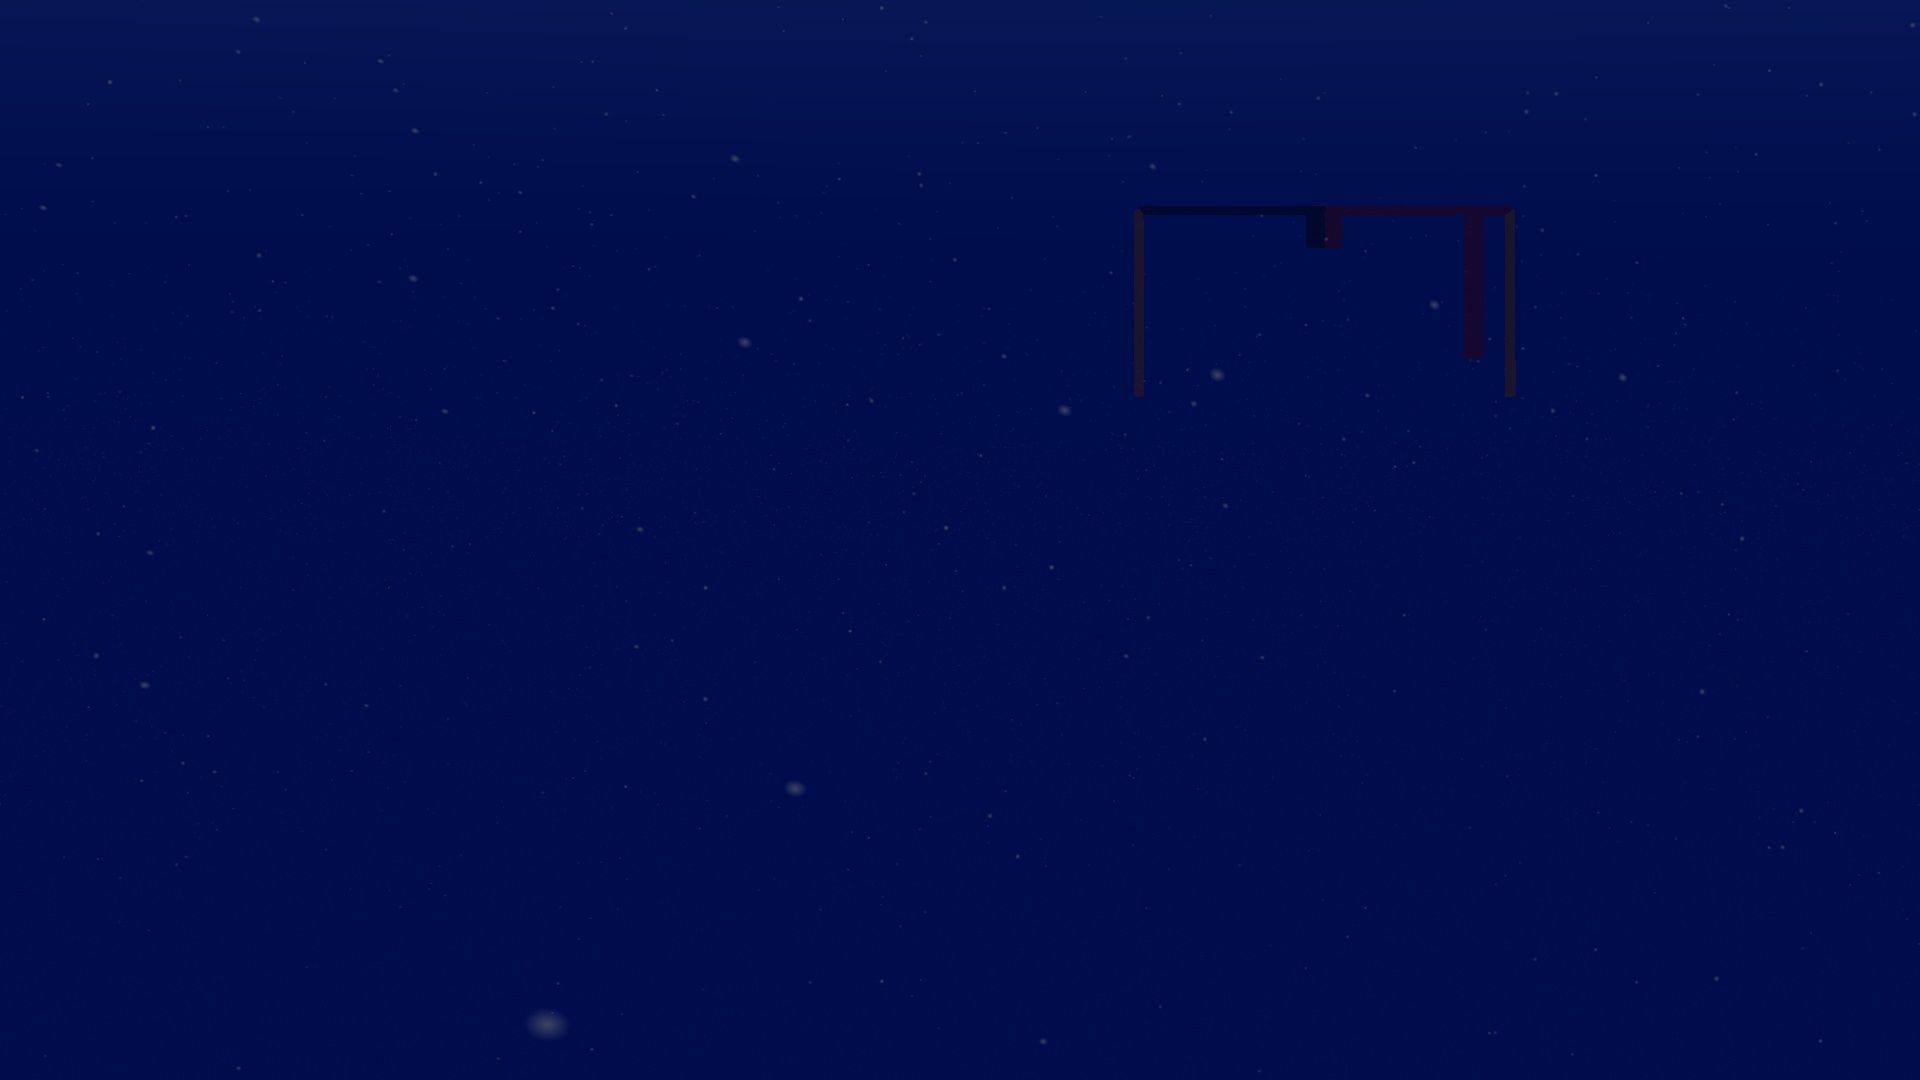Gate: (1124, 198, 1526, 407)
